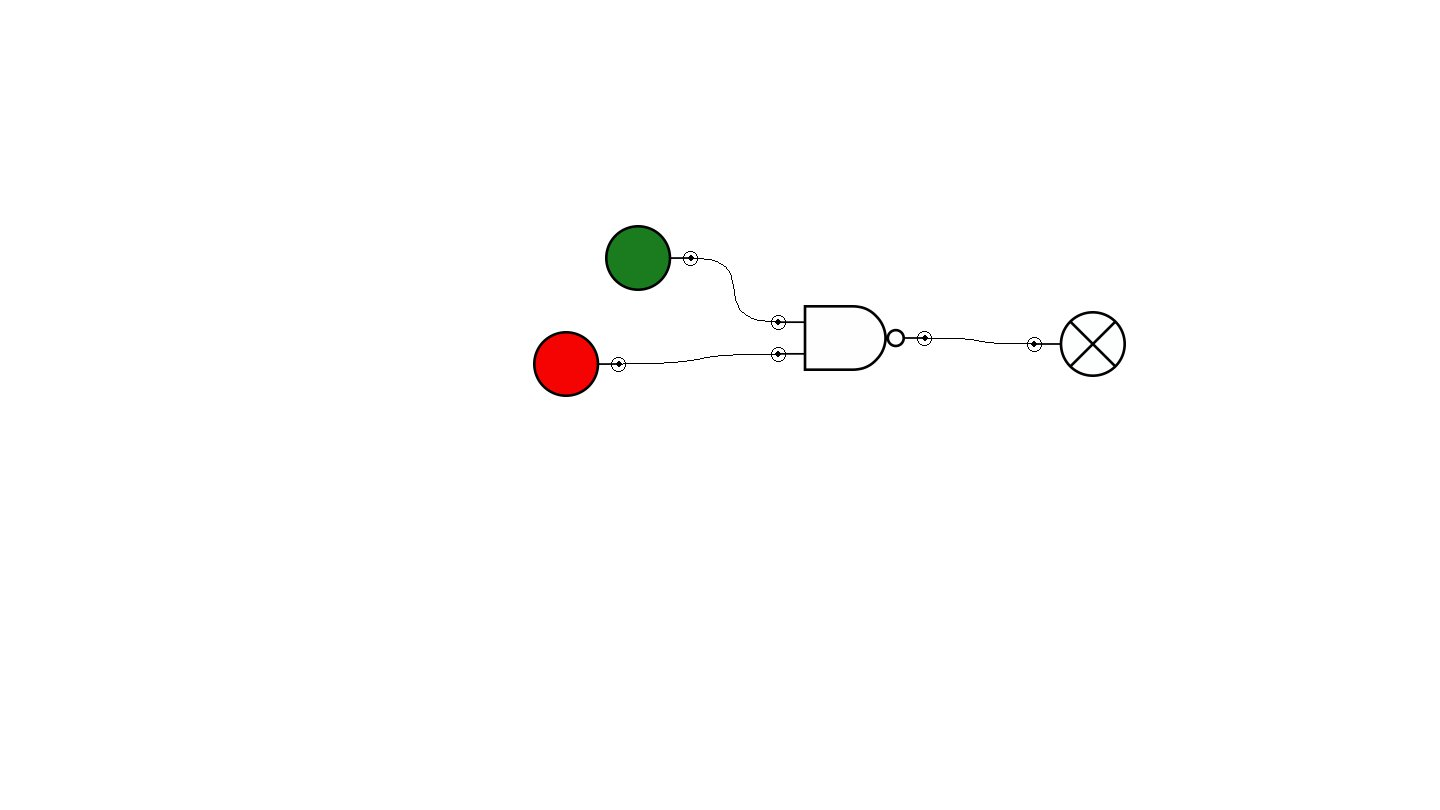bulb: (1027, 311, 1126, 377)
nand: (771, 305, 932, 371)
switch_False: (533, 331, 626, 397)
switch_True: (605, 225, 698, 291)
